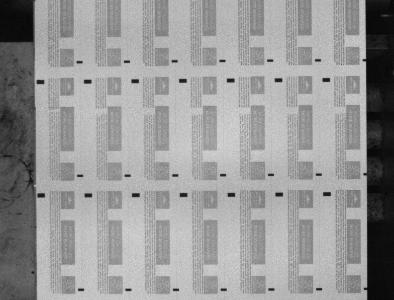backgroundclutter: (31, 271, 35, 274)
incorrect qblock: (364, 287, 368, 290), (363, 59, 367, 62), (364, 173, 368, 176)
qblock: (179, 78, 187, 83), (84, 79, 92, 84), (228, 192, 236, 197), (276, 192, 284, 197), (37, 193, 45, 198), (36, 80, 45, 84), (131, 79, 139, 83), (84, 193, 92, 197), (275, 78, 283, 82), (132, 193, 140, 197), (227, 78, 235, 82), (180, 193, 188, 197), (323, 78, 331, 82), (323, 192, 331, 196)
smallqblock: (76, 60, 83, 64), (172, 59, 178, 63), (124, 174, 131, 177), (172, 174, 179, 177), (220, 174, 227, 177), (268, 173, 275, 176), (77, 174, 84, 177), (125, 288, 132, 291), (315, 59, 322, 62), (267, 59, 274, 62), (219, 59, 226, 62), (316, 288, 323, 291), (124, 60, 130, 63), (78, 288, 84, 291), (316, 173, 322, 176), (173, 288, 179, 291), (269, 288, 275, 291), (221, 288, 227, 291)
